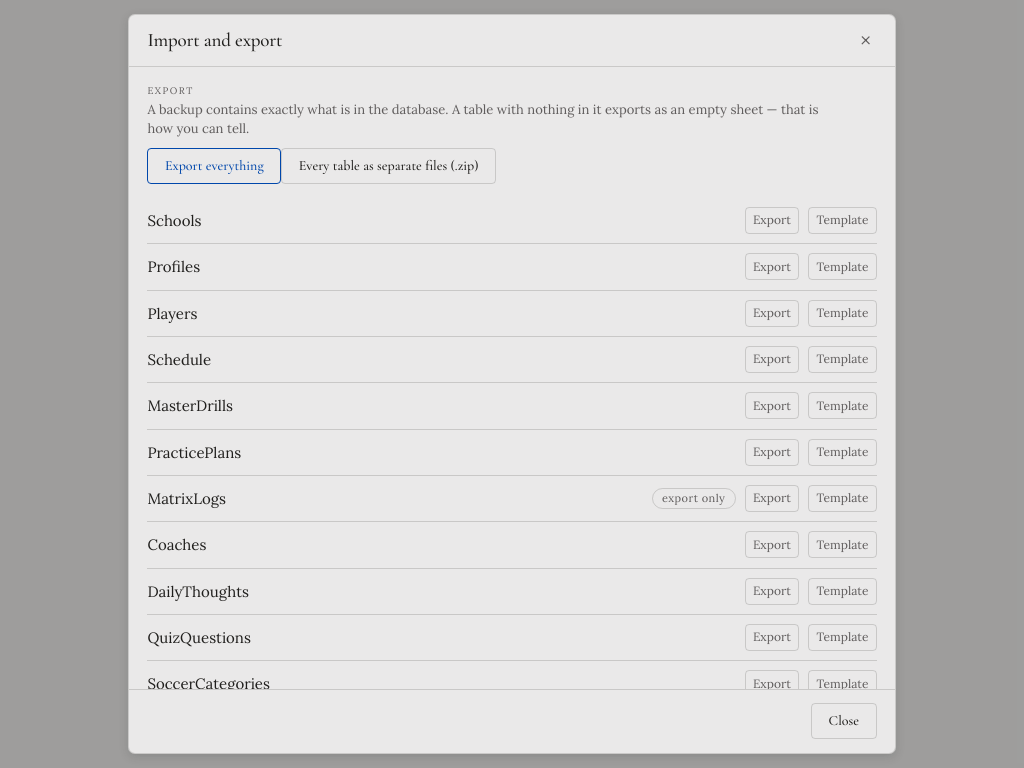
exporting › says so when the ZIP library has not loaded rather than throwing
Click the button "Every table as separate files (.zip)".
click(389, 166)  # box [281,148,496,184]
(page scrolled)
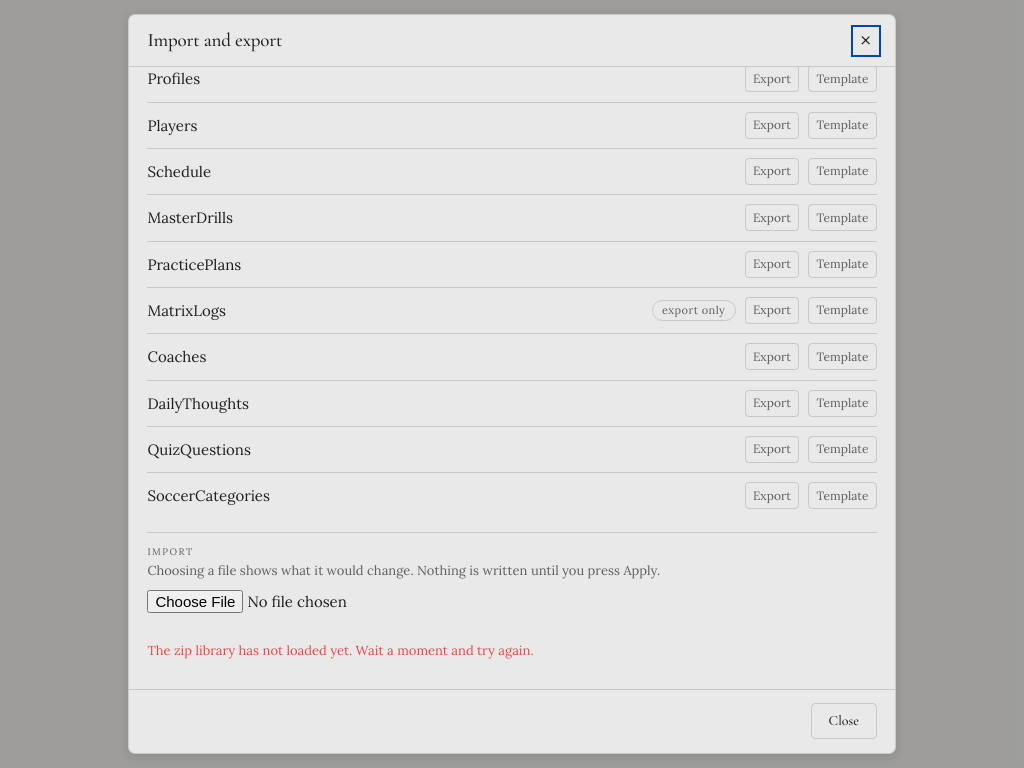
Check: the message "The zip library has not loaded yet. Wait a moment and try again." is shown, box [147,642,534,659]
